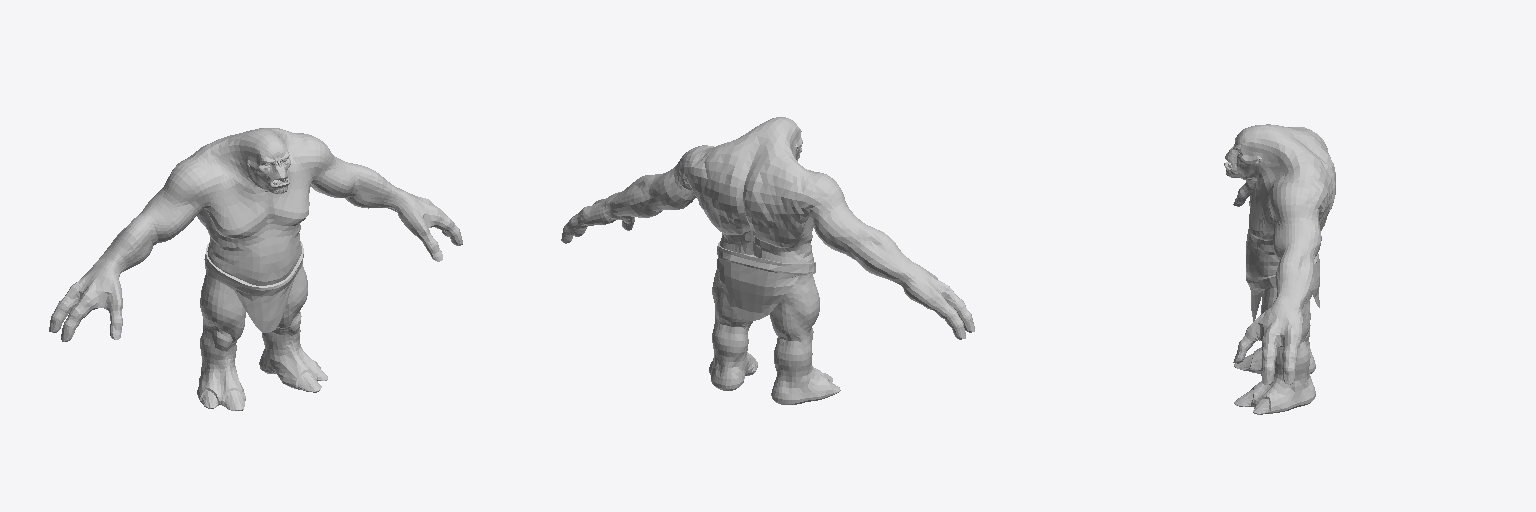
Rendered from troll.obj.
The picture shows the model from 3 angles: view 1: azimuth 30°, elevation 25°; view 2: azimuth 150°, elevation 25°; view 3: azimuth 270°, elevation 25°; orthographic projection.
Parts seen in each view (by area): view 1: polySurface7, Pants; view 2: polySurface7, Pants; view 3: polySurface7, Pants.
Boxes of the visible parts, x1,y1,x2,y2 form: polySurface7: [49, 128, 462, 410]; Pants: [204, 242, 303, 332]; polySurface7: [561, 117, 974, 404]; Pants: [717, 242, 815, 320]; polySurface7: [1224, 124, 1335, 414]; Pants: [1246, 254, 1319, 321].
Bounding box in the file's own units: 8.78 × 5.39 × 2.1.